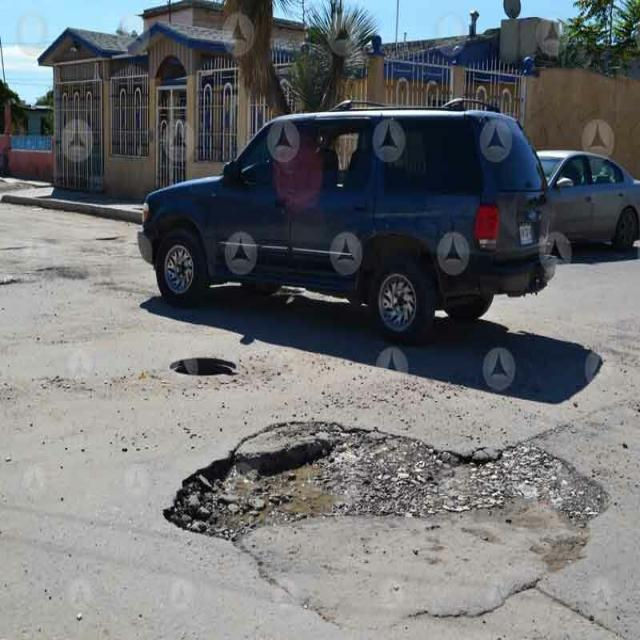Pothole: (122, 335, 640, 607)
